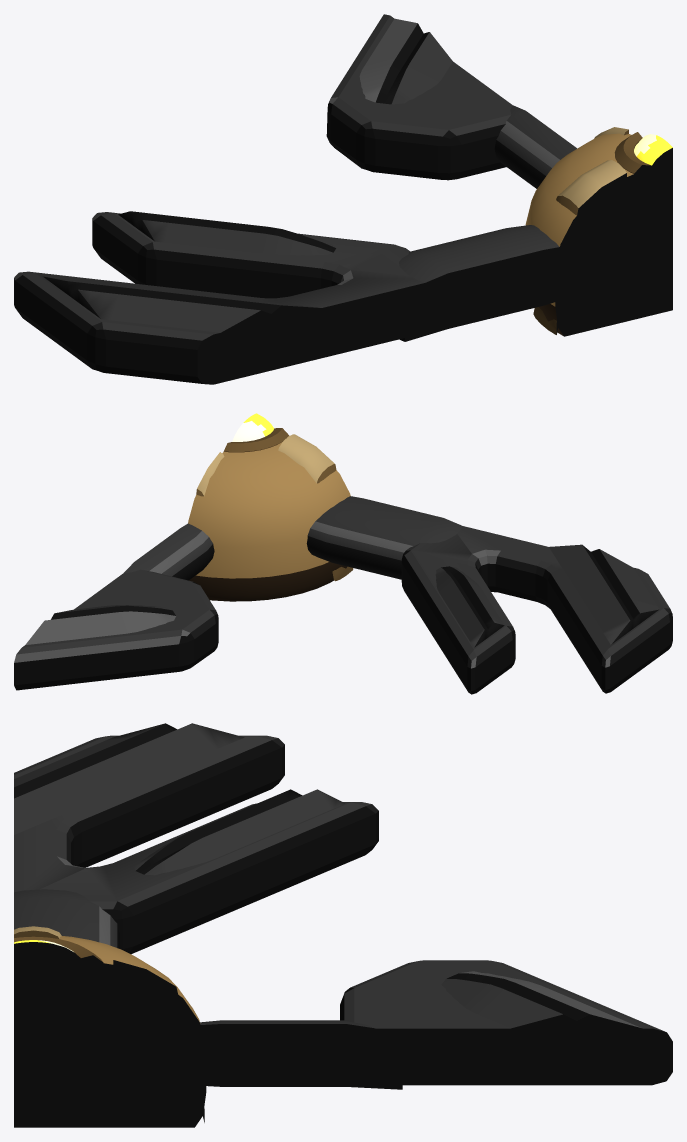
File: spin_claw_89.glb
3 views of the same model, one above another, from view 1: azimuth 30°, elevation 25°; view 2: azimuth 150°, elevation 25°; view 3: azimuth 270°, elevation 25° (orthographic). The views are drawn at different scales.
Parts seen in each view (by area): view 1: spin_claw_89_arm3_plate, spin_claw_89_hub_dome, spin_claw_89_arm0_plate, spin_claw_89_arm3_rod, spin_claw_89_arm3_ridge0, spin_claw_89_arm0_ridge0, spin_claw_89_arm3_ridge1, spin_claw_89_arm0_rod, spin_claw_89_hub_rib3, spin_claw_89_hub_lens, spin_claw_89_hub_bezel; view 2: spin_claw_89_arm3_plate, spin_claw_89_hub_dome, spin_claw_89_arm0_plate, spin_claw_89_arm3_rod, spin_claw_89_arm3_ridge0, spin_claw_89_arm0_ridge0, spin_claw_89_arm3_ridge1, spin_claw_89_arm0_rod, spin_claw_89_hub_rib3, spin_claw_89_hub_bezel, spin_claw_89_hub_lens; view 3: spin_claw_89_arm3_plate, spin_claw_89_arm0_plate, spin_claw_89_hub_dome, spin_claw_89_arm0_rod, spin_claw_89_arm3_ridge0, spin_claw_89_arm0_ridge0, spin_claw_89_arm3_ridge1, spin_claw_89_arm3_rod, spin_claw_89_hub_lens, spin_claw_89_hub_bezel, spin_claw_89_hub_rib0.
Boxes of the visible parts, left/top/right/bottom form: spin_claw_89_arm3_plate: left=14, top=212, right=452, bottom=384; spin_claw_89_hub_dome: left=525, top=133, right=672, bottom=336; spin_claw_89_arm0_plate: left=326, top=14, right=512, bottom=180; spin_claw_89_arm3_rod: left=399, top=225, right=606, bottom=341; spin_claw_89_arm3_ridge0: left=43, top=276, right=330, bottom=344; spin_claw_89_arm0_ridge0: left=359, top=18, right=452, bottom=104; spin_claw_89_arm3_ridge1: left=118, top=211, right=336, bottom=255; spin_claw_89_arm0_rod: left=494, top=105, right=576, bottom=188; spin_claw_89_hub_rib3: left=533, top=160, right=626, bottom=334; spin_claw_89_hub_lens: left=634, top=134, right=672, bottom=182; spin_claw_89_hub_bezel: left=614, top=132, right=672, bottom=183; spin_claw_89_arm3_plate: left=401, top=526, right=672, bottom=694; spin_claw_89_hub_dome: left=188, top=435, right=350, bottom=601; spin_claw_89_arm0_plate: left=14, top=569, right=218, bottom=690; spin_claw_89_arm3_rod: left=306, top=496, right=461, bottom=579; spin_claw_89_arm3_ridge0: left=549, top=544, right=659, bottom=644; spin_claw_89_arm0_ridge0: left=25, top=605, right=175, bottom=644; spin_claw_89_arm3_ridge1: left=435, top=566, right=504, bottom=647; spin_claw_89_arm0_rod: left=124, top=523, right=214, bottom=580; spin_claw_89_hub_rib3: left=278, top=434, right=353, bottom=581; spin_claw_89_hub_bezel: left=223, top=428, right=288, bottom=452; spin_claw_89_hub_lens: left=232, top=413, right=274, bottom=441; spin_claw_89_arm3_plate: left=14, top=735, right=378, bottom=954; spin_claw_89_arm0_plate: left=340, top=960, right=672, bottom=1085; spin_claw_89_hub_dome: left=14, top=936, right=206, bottom=1127; spin_claw_89_arm0_rod: left=140, top=1020, right=402, bottom=1089; spin_claw_89_arm3_ridge0: left=14, top=723, right=244, bottom=834; spin_claw_89_arm0_ridge0: left=441, top=971, right=655, bottom=1038; spin_claw_89_arm3_ridge1: left=134, top=789, right=345, bottom=875; spin_claw_89_arm3_rod: left=14, top=889, right=119, bottom=948; spin_claw_89_hub_lens: left=14, top=940, right=81, bottom=977; spin_claw_89_hub_bezel: left=14, top=936, right=103, bottom=974; spin_claw_89_hub_rib0: left=113, top=960, right=204, bottom=1122.
Bounding box in the file's own units: 18.06 × 5.24 × 16.86.
